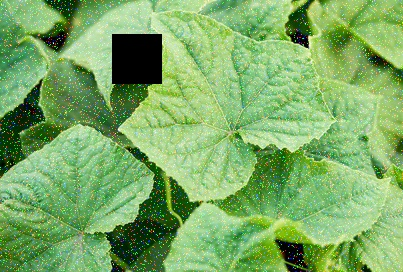cucumber_plant: (127, 6, 391, 272)
